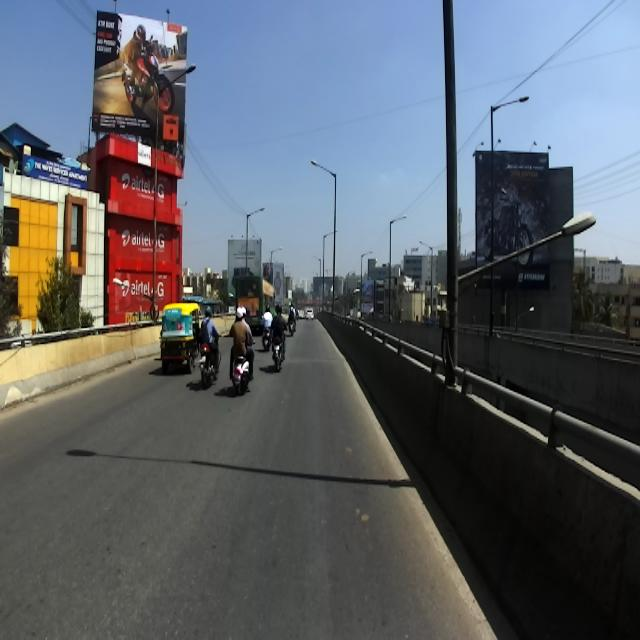auto ahead at: (158, 294, 200, 372)
motorcycle ahead at: (228, 353, 255, 395)
